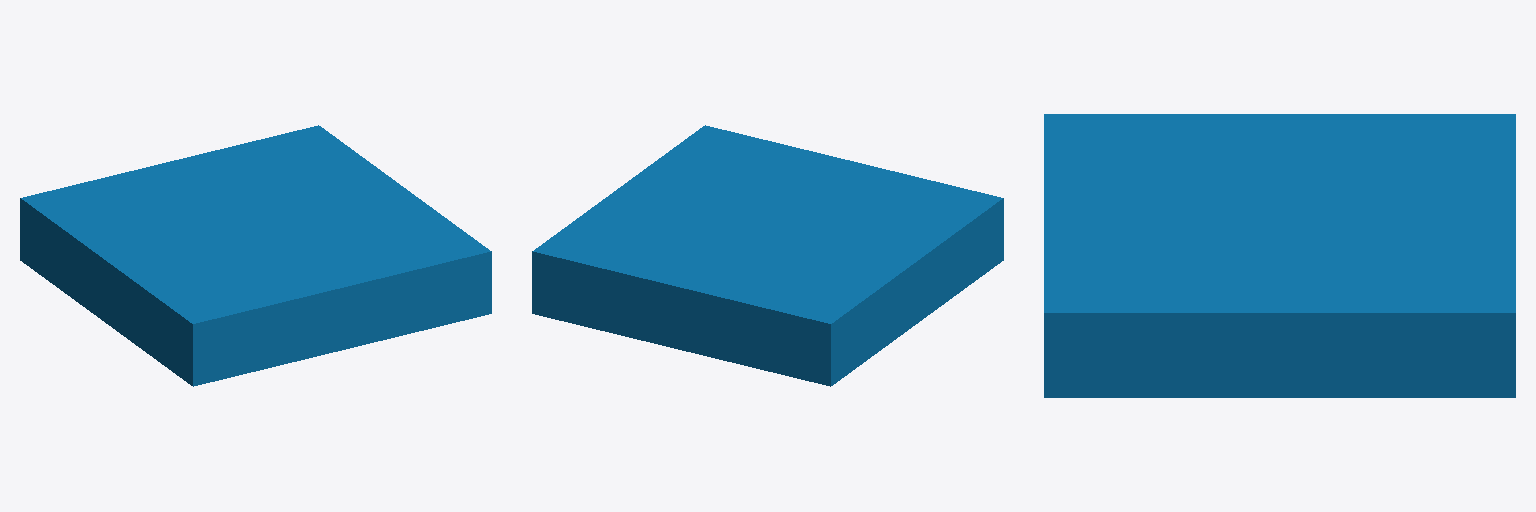
The robot description file, URDF, robot "workpiece":
<?xml version="1.0"?>
<robot name="workpiece">
  <link name="workpiece_origin">
    <visual>
      	<geometry>
          	<mesh filename="package://process_visualizer/resources/workpiece.stl"
                scale="1 1 1"/>
      	</geometry>
	  	<material name="ABS" >
          	<color rgba="0.11 0.54 0.76 1.0" />
         </material> 	
    </visual>
    <!-- <collision>
      	<geometry>
          	<mesh filename="package://process_visualizer/resources/workpiece.stl"
                scale="1 1 1"/>
      	</geometry>
	  	<material name="ABS" >
          	<color rgba="0.11 0.54 0.76 1.0" />
         </material> 	
    </collision> -->
    <inertial>
      <origin xyz="0 0 1" rpy="0 0 0"/>
      <mass value="1"/>
      <inertia
        ixx="1.0" ixy="0.0" ixz="0.0"
        iyy="1.0" iyz="0.0"
        izz="1.0"/>
    </inertial>
  </link>

    <link name="world"/>

  <joint name="fixed" type="fixed">
    <parent link="world"/>
    <child link="workpiece_origin"/>
  </joint>

  <gazebo reference="workpiece_origin">
    <material>Gazebo/Blue</material>
  </gazebo>


</robot>

--- Facts derived from the render (not from the file) ---
The picture shows the robot from 3 angles, left to right: view 1: azimuth 30°, elevation 25°; view 2: azimuth 150°, elevation 25°; view 3: azimuth 270°, elevation 25°; orthographic projection.
Model workpiece with 2 links and 1 joints (1 fixed), rooted at world, posed every joint at zero.
Visible links, largest first — view 1: workpiece_origin; view 2: workpiece_origin; view 3: workpiece_origin.
Link boxes in pixels (<box>): workpiece_origin: <box>20,125,491,386</box>; workpiece_origin: <box>532,125,1003,386</box>; workpiece_origin: <box>1044,114,1515,397</box>.
Size in the robot's own frame: 0.1 by 0.1 by 0.02 metres.
Meshes: 1 distinct files referenced, 1 mesh visuals loaded (1 binary STL).